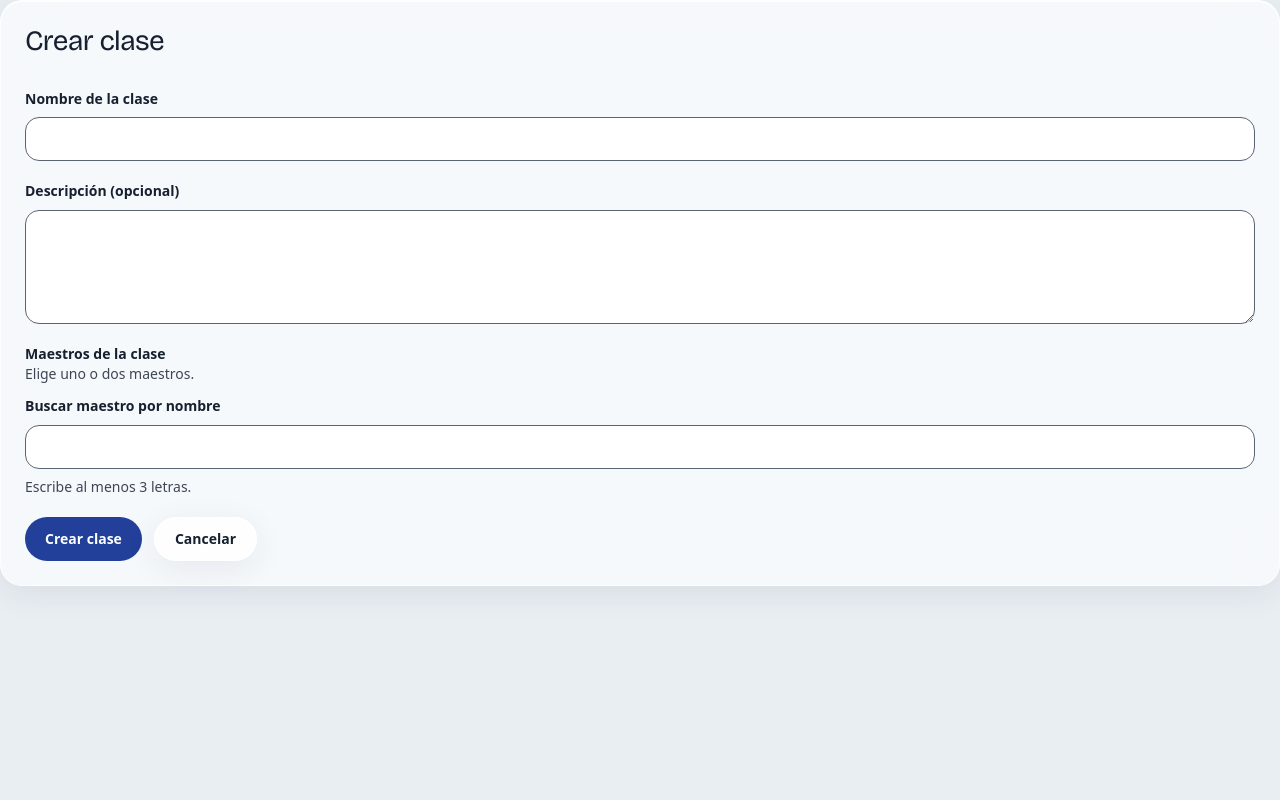
Test: CrearClaseView › PR-2C04: sin maestros elegidos, «Elige al menos un maestro» con ErrorDeCampo y no se pide nada
In the field labelled "Nombre de la clase": [640, 140] box [25,118,1255,162], type "Historia"
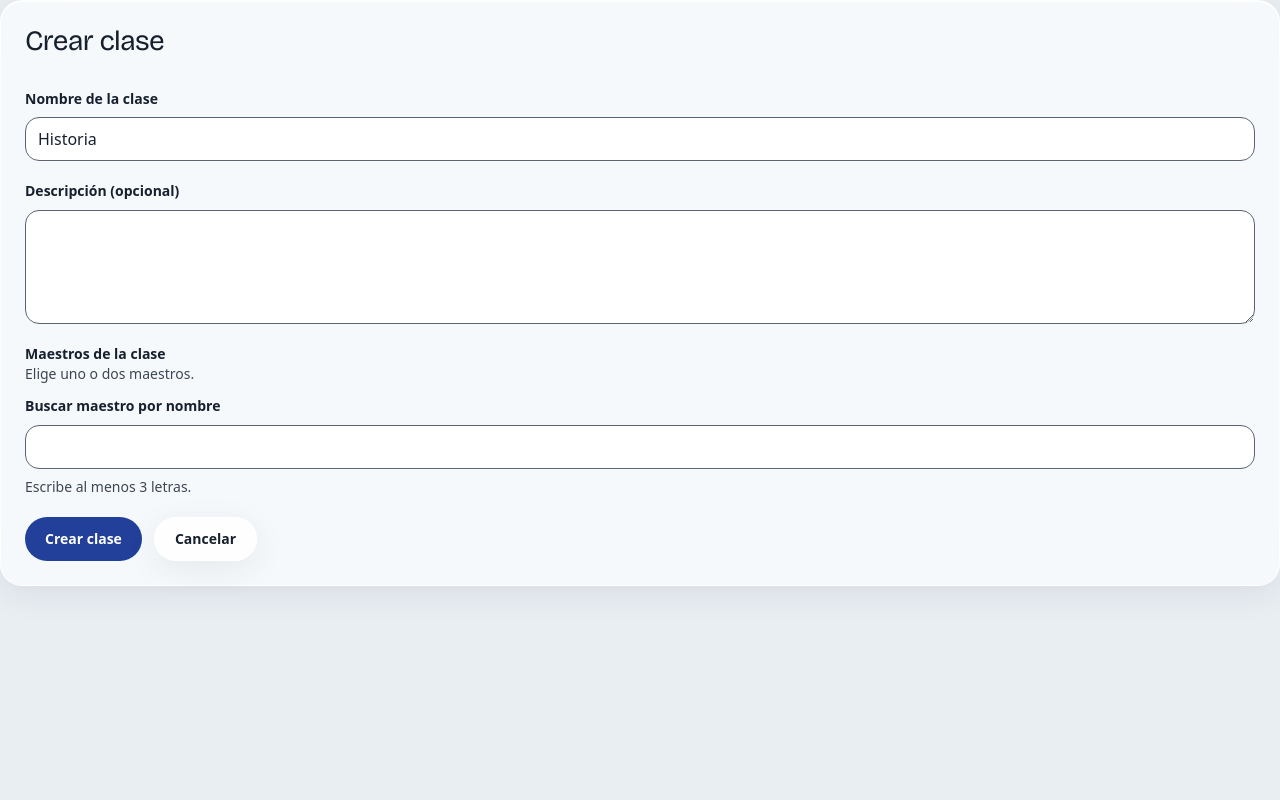
Click the button "Crear clase": [83, 539] box [25,517,142,561]
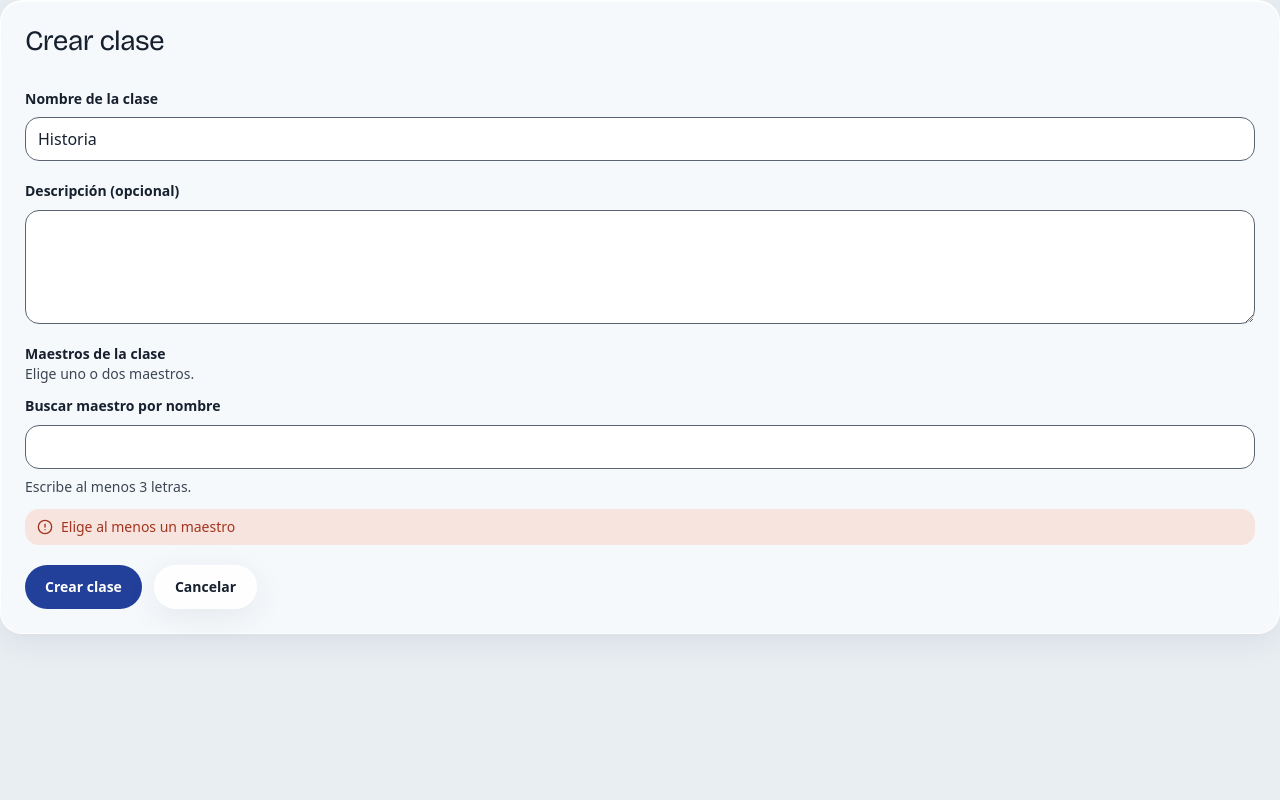
Now the text "Elige al menos un maestro" is shown, box [25,509,1255,545]
